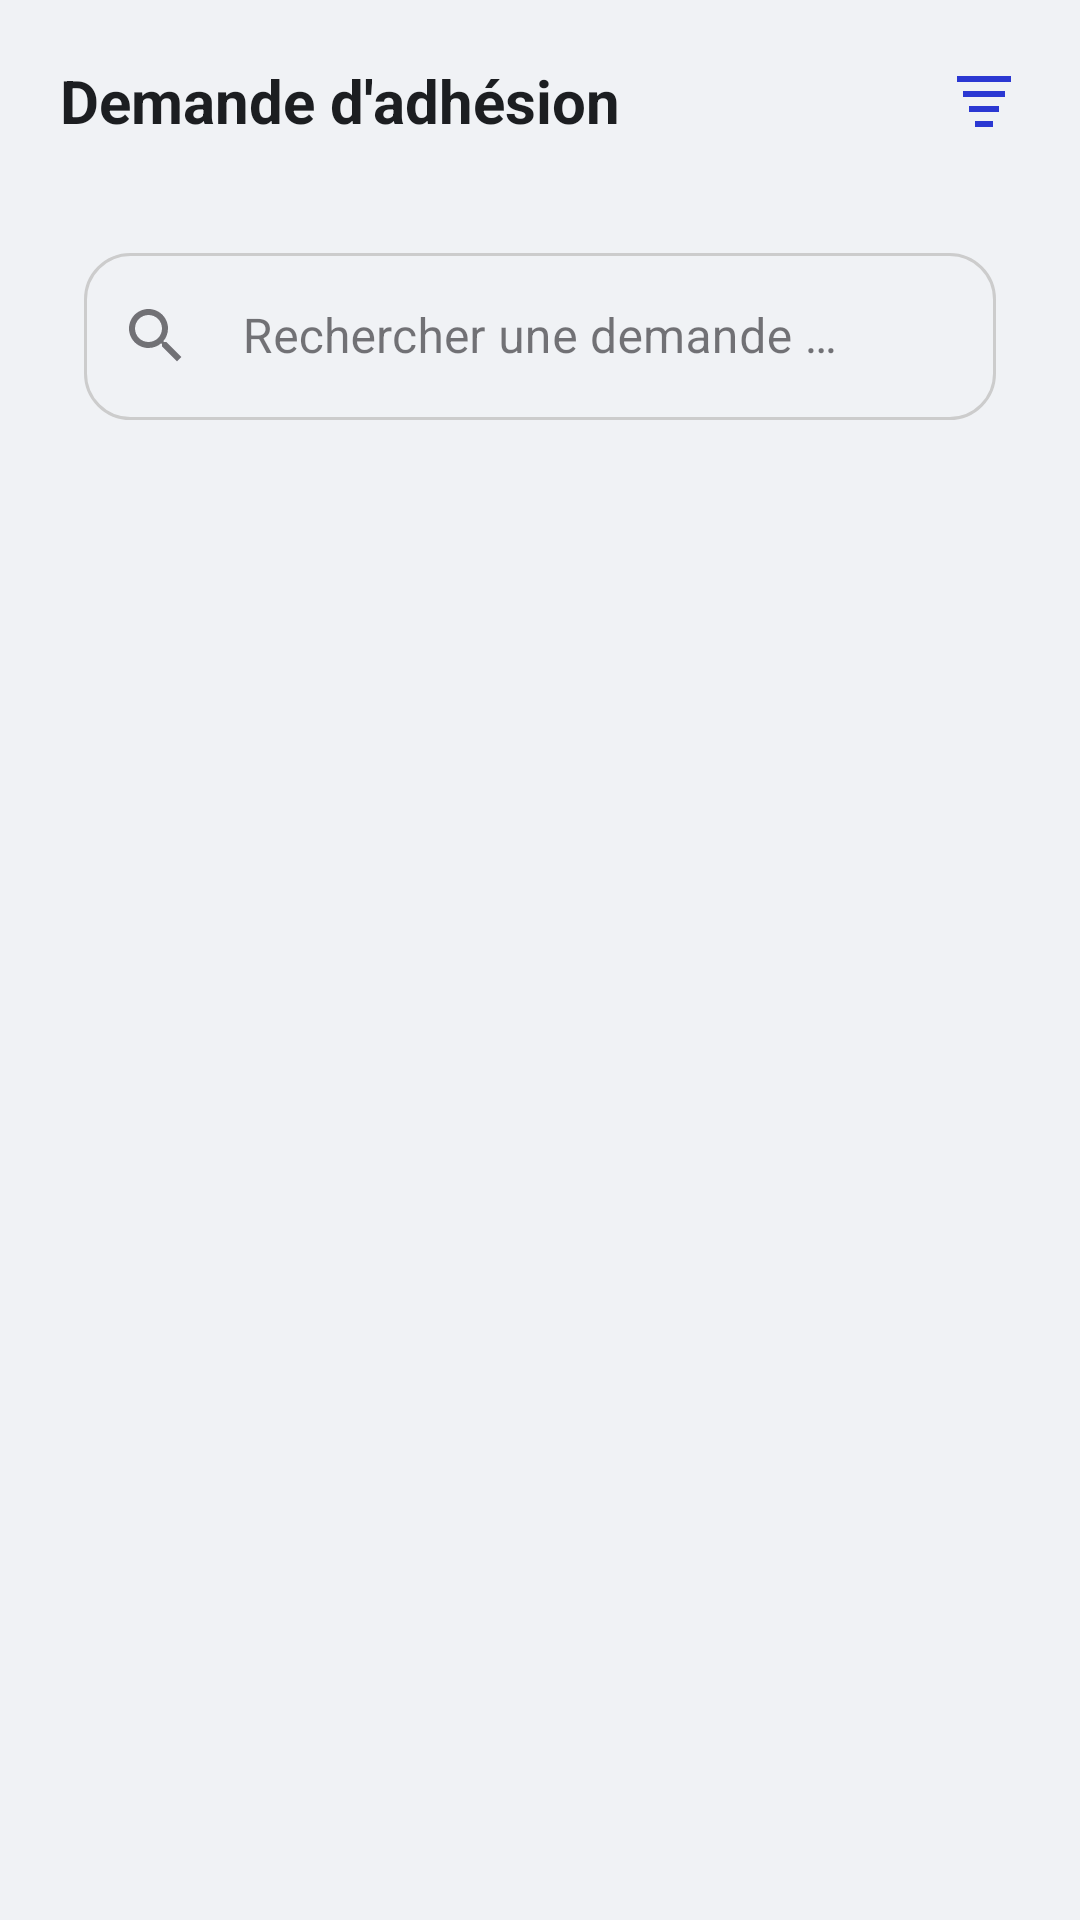

Named icons in this screenshot (1080x1920) and their centers, point (x, y):
filter: point (984, 101)
